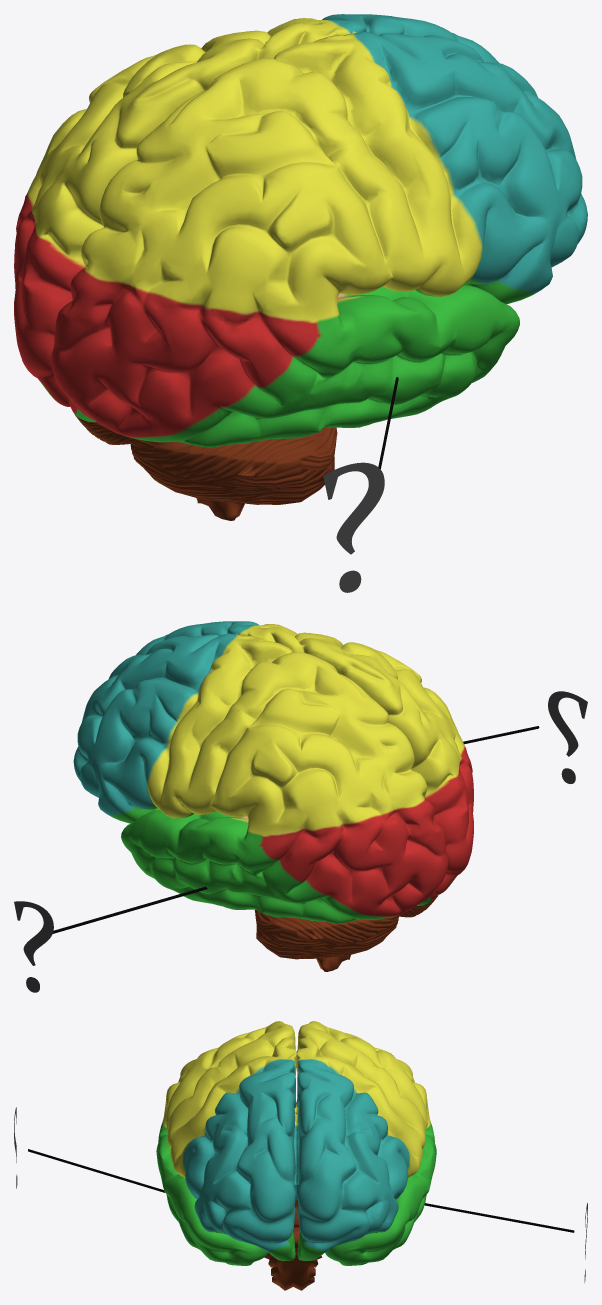
3 views of the same model, one above another, from view 1: azimuth 30°, elevation 25°; view 2: azimuth 150°, elevation 25°; view 3: azimuth 270°, elevation 25° (orthographic). The views are drawn at different scales.
Visible parts, largest first — view 1: Brain_Part_06_Colour_Brain_Texture_0, Brain_Part_04_Colour_Brain_Texture_0, Brain_Part_02_Colour_Brain_Texture_0, Text.005; view 2: Brain_Part_04_Colour_Brain_Texture_0, Brain_Part_06_Colour_Brain_Texture_0, Brain_Part_02_Colour_Brain_Texture_0, Text.005, Text.007, Cylinder.002; view 3: Brain_Part_04_Colour_Brain_Texture_0, Brain_Part_06_Colour_Brain_Texture_0, Brain_Part_05_Colour_Brain_Texture_0, Cylinder.002, Cylinder.001.
Part boxes in pixels (box(x1,y1,x2,y2)): Brain_Part_06_Colour_Brain_Texture_0: box(51, 32, 587, 447); Brain_Part_04_Colour_Brain_Texture_0: box(14, 14, 499, 406); Brain_Part_02_Colour_Brain_Texture_0: box(75, 415, 337, 504); Text.005: box(323, 462, 384, 592); Brain_Part_04_Colour_Brain_Texture_0: box(73, 633, 447, 923); Brain_Part_06_Colour_Brain_Texture_0: box(135, 621, 473, 895); Brain_Part_02_Colour_Brain_Texture_0: box(254, 895, 438, 959); Text.005: box(548, 691, 587, 783); Text.007: box(14, 901, 53, 992); Cylinder.002: box(52, 886, 207, 933); Brain_Part_04_Colour_Brain_Texture_0: box(296, 1021, 436, 1265); Brain_Part_06_Colour_Brain_Texture_0: box(156, 1021, 296, 1265); Brain_Part_05_Colour_Brain_Texture_0: box(264, 1200, 322, 1290); Cylinder.002: box(424, 1203, 574, 1232); Cylinder.001: box(28, 1149, 164, 1192).
Size of the model in its own units: 0.092 by 0.0786 by 0.1515.
3 materials, 1 textured.
